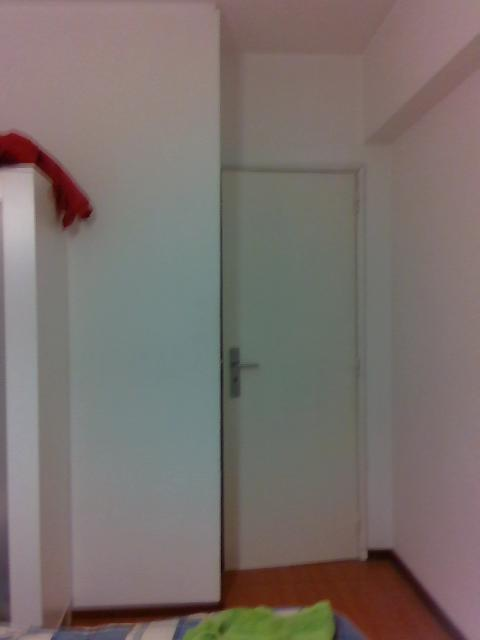door: (223, 169, 356, 570)
